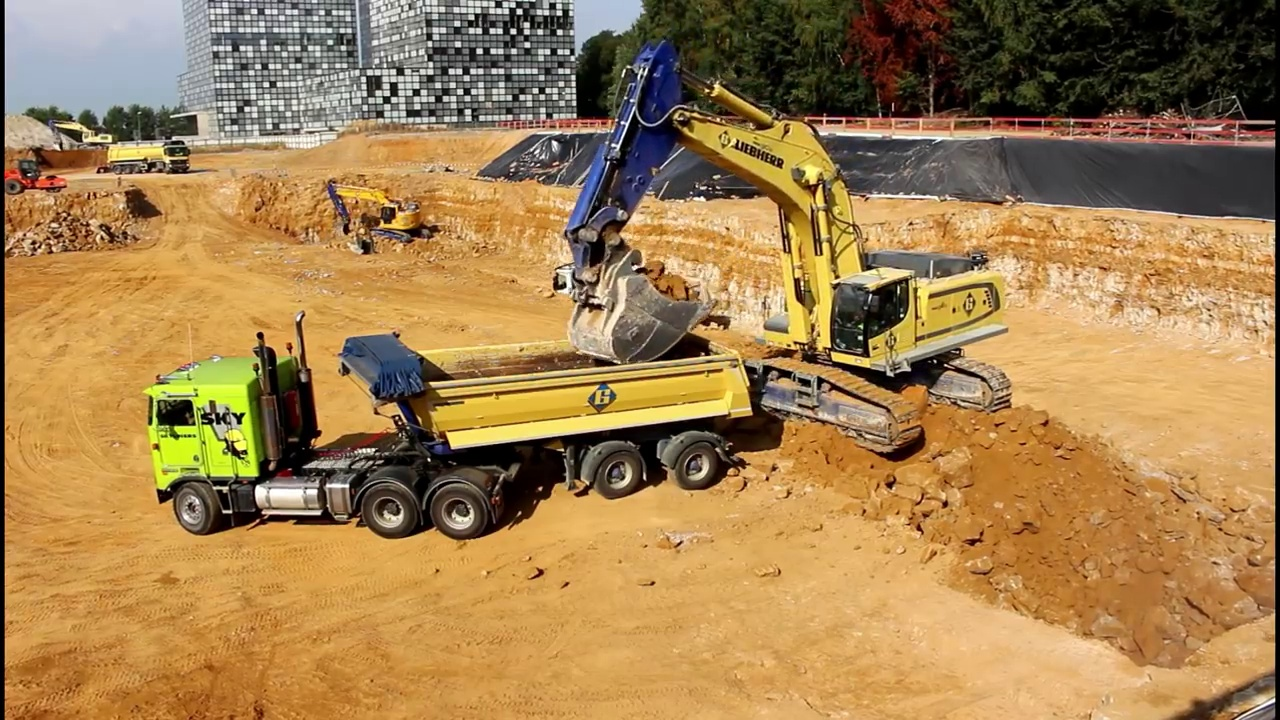compactor: (6, 157, 73, 199)
excavator: (559, 36, 1019, 462), (321, 169, 445, 267), (43, 114, 126, 152)
truck: (140, 306, 756, 544), (104, 134, 195, 182)
